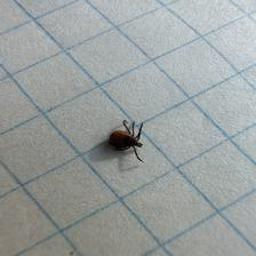Ixodes scapularis: (107, 121, 146, 162)
